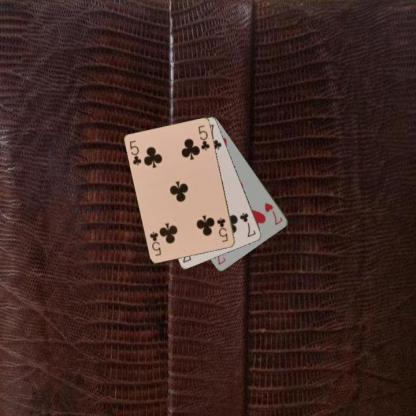5c: (127, 138, 143, 167), (214, 215, 230, 243)
7c: (238, 210, 257, 239)
7h: (262, 200, 284, 226)
